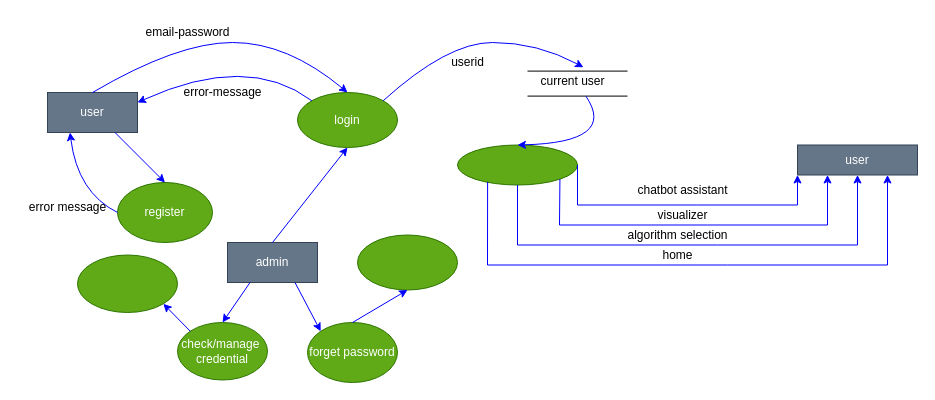
This 935x400 diagram has some shape labels left out. Each missing label, with the centre of its shape:
check/manage roles of access: the point at 127,283
dashboard: the point at 517,164
send mail to user: the point at 407,262
